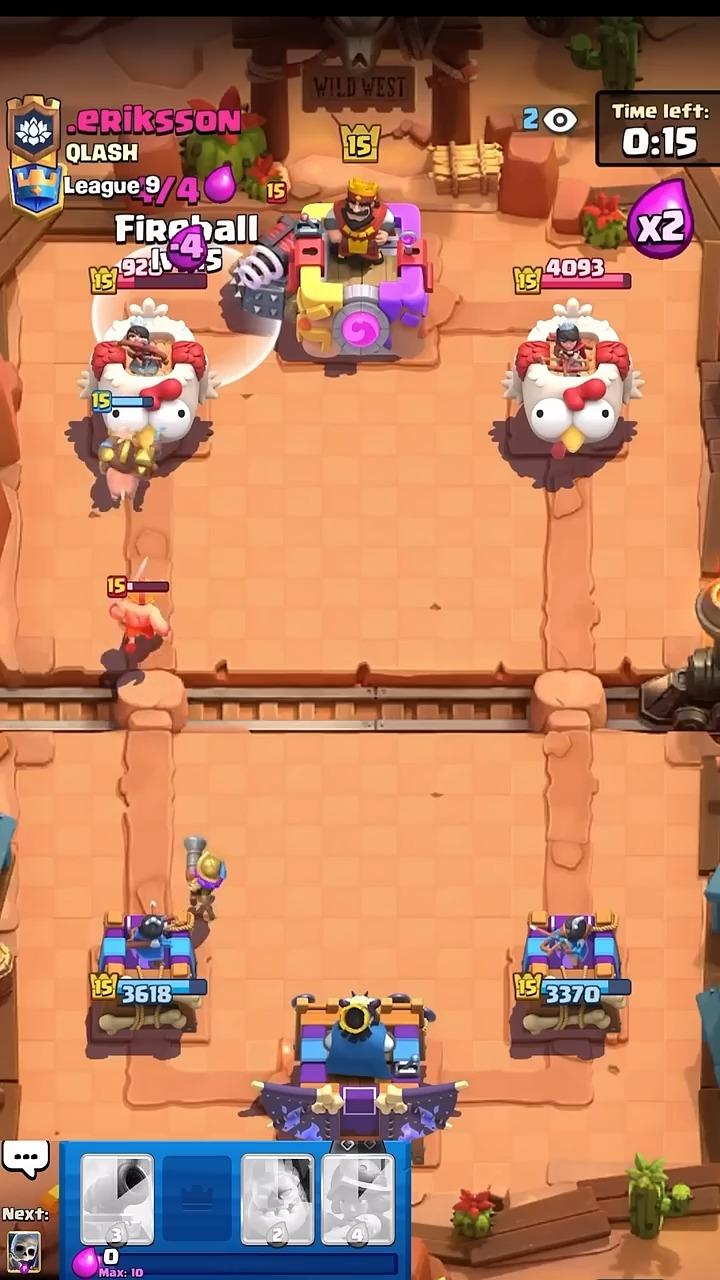elite barbarians: (110, 593, 169, 652)
hog rider: (98, 427, 156, 497)
musketeer: (185, 836, 225, 922)
sparky: (234, 216, 293, 321)
